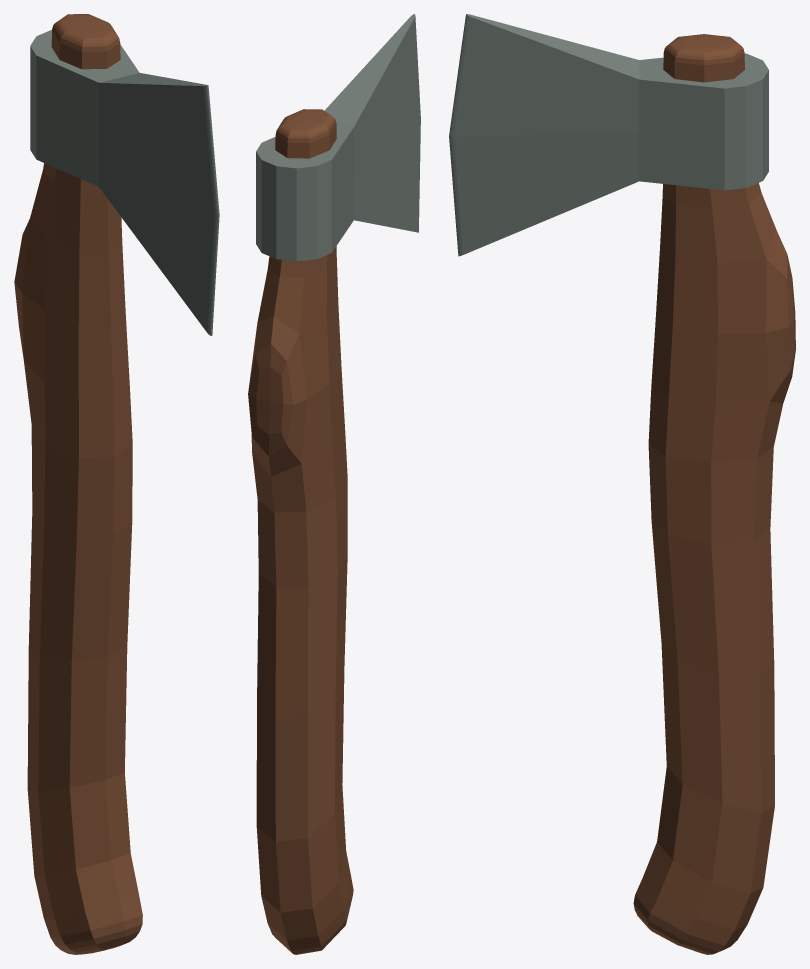
The model's file is axe.fbx.
3 views of the same model, side by side, from view 1: azimuth 30°, elevation 25°; view 2: azimuth 150°, elevation 25°; view 3: azimuth 270°, elevation 25° (orthographic). The views are drawn at different scales.
Visible parts, largest first — view 1: small axe; view 2: small axe; view 3: small axe.
Part boxes in pixels (x1,y1,x2,y2): small axe: (14, 14, 219, 954); small axe: (248, 14, 420, 954); small axe: (449, 14, 795, 954).
Size of the model in its own units: 138 by 1594 by 535.
